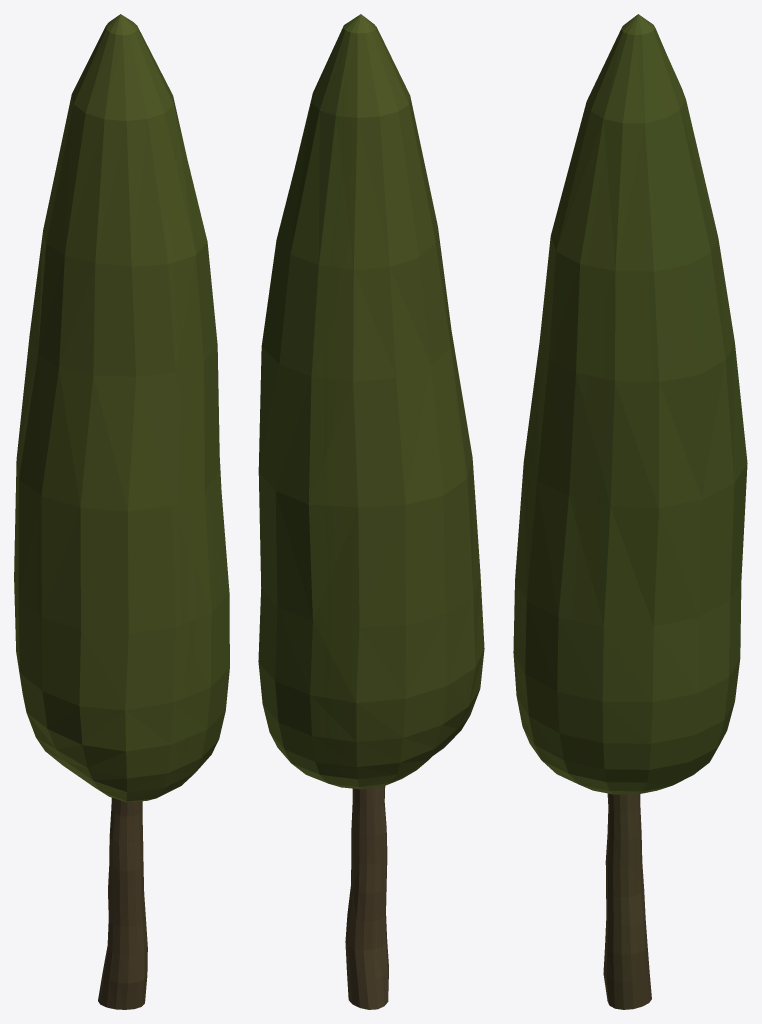
Rendered from tree2.obj.
3 views of the same model, side by side, from view 1: azimuth 30°, elevation 25°; view 2: azimuth 150°, elevation 25°; view 3: azimuth 270°, elevation 25° (orthographic).
Parts seen in each view (by area): view 1: Cylinder; view 2: Cylinder; view 3: Cylinder.
Boxes of the visible parts, x1,y1,x2,y2 form: Cylinder: (14, 14, 229, 1009); Cylinder: (258, 14, 484, 1009); Cylinder: (513, 14, 747, 1009).
Bounding box in the file's own units: 0.9582 × 4.84 × 1.04.
2 materials, 2 textured.
